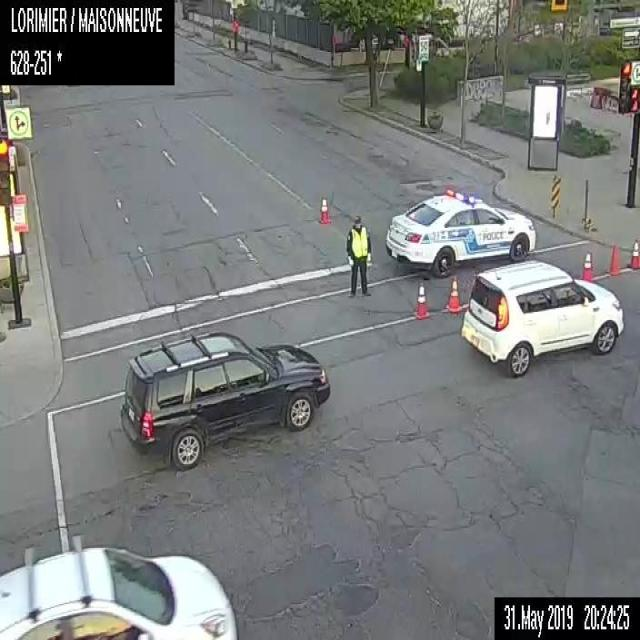construction: (443, 275, 462, 312), (414, 280, 429, 317), (317, 193, 330, 224), (627, 237, 639, 268), (580, 249, 592, 279), (608, 241, 618, 276)
pedestrian: (345, 214, 372, 296)
vehicle: (117, 328, 331, 471), (0, 544, 236, 638), (460, 258, 623, 376), (384, 188, 535, 277)
